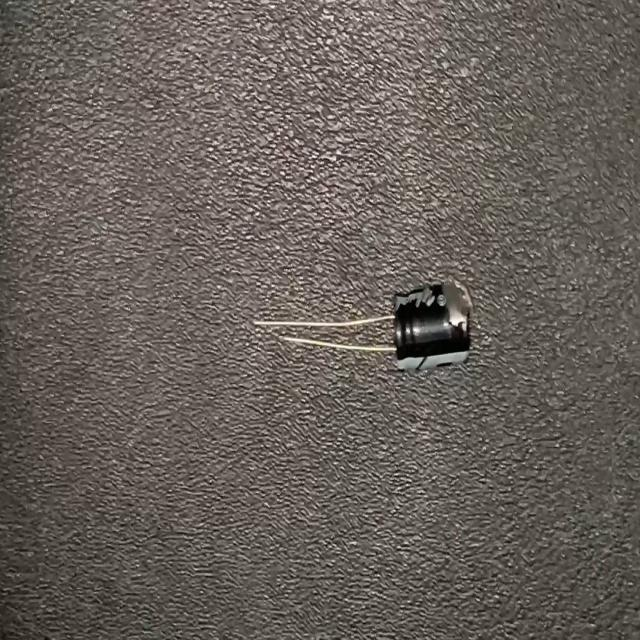capacitor: (252, 272, 476, 382)
cracked: (432, 279, 474, 333)
